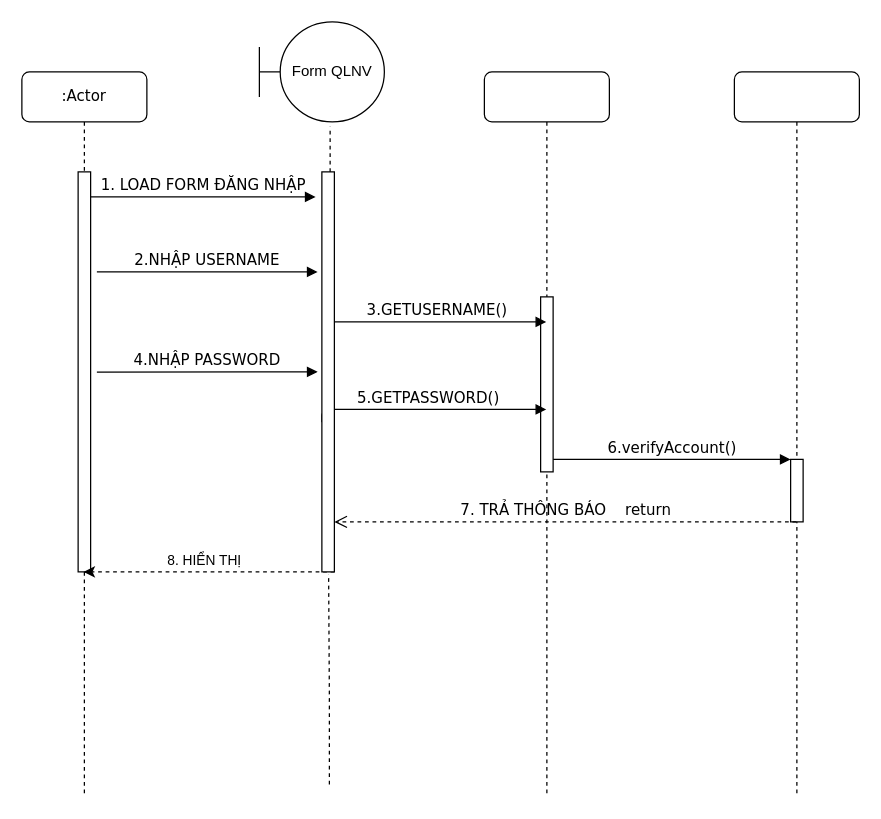
Image size: 881x819. Some labels were removed from this diagram. The centre of each missing label's shape, as x and y in pixels:
":NHANVIEN" belongs at point 796,434.
"Controller" belongs at point 546,434.
